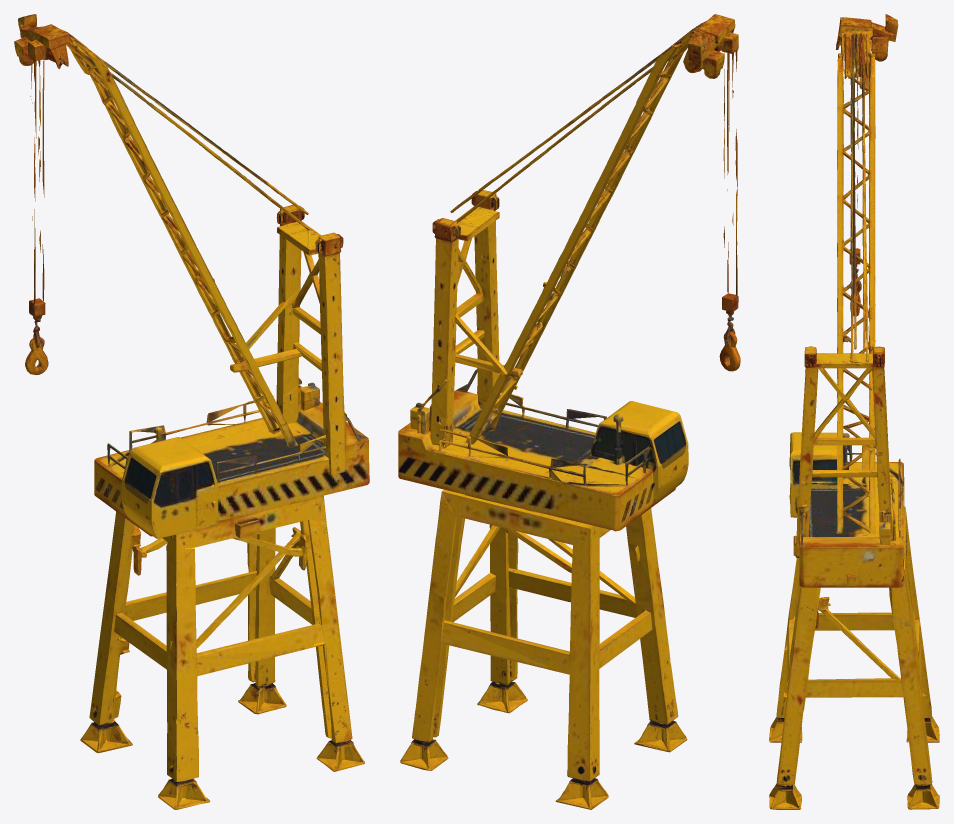
Rendered from dock_crane.glb.
3 views of the same model, side by side, from view 1: azimuth 30°, elevation 25°; view 2: azimuth 150°, elevation 25°; view 3: azimuth 270°, elevation 25° (orthographic). The views are drawn at different scales.
Visible parts, largest first — view 1: Mesh_0; view 2: Mesh_0; view 3: Mesh_0.
Part boxes in pixels (bbox=[...]): Mesh_0: bbox=[14, 14, 369, 809]; Mesh_0: bbox=[398, 14, 740, 809]; Mesh_0: bbox=[769, 14, 939, 809].
Size of the model in its own units: 0.8336 by 1.9 by 0.4349.
Materials: 1 (1 with a texture image).
